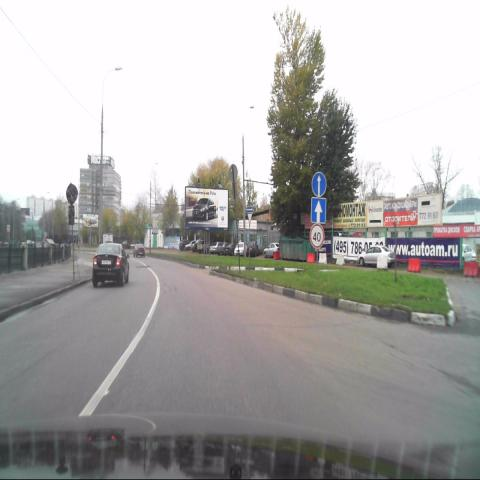3_24: (310, 223, 324, 248)
4_1_1: (311, 171, 327, 197)
5_5: (310, 197, 327, 223)
